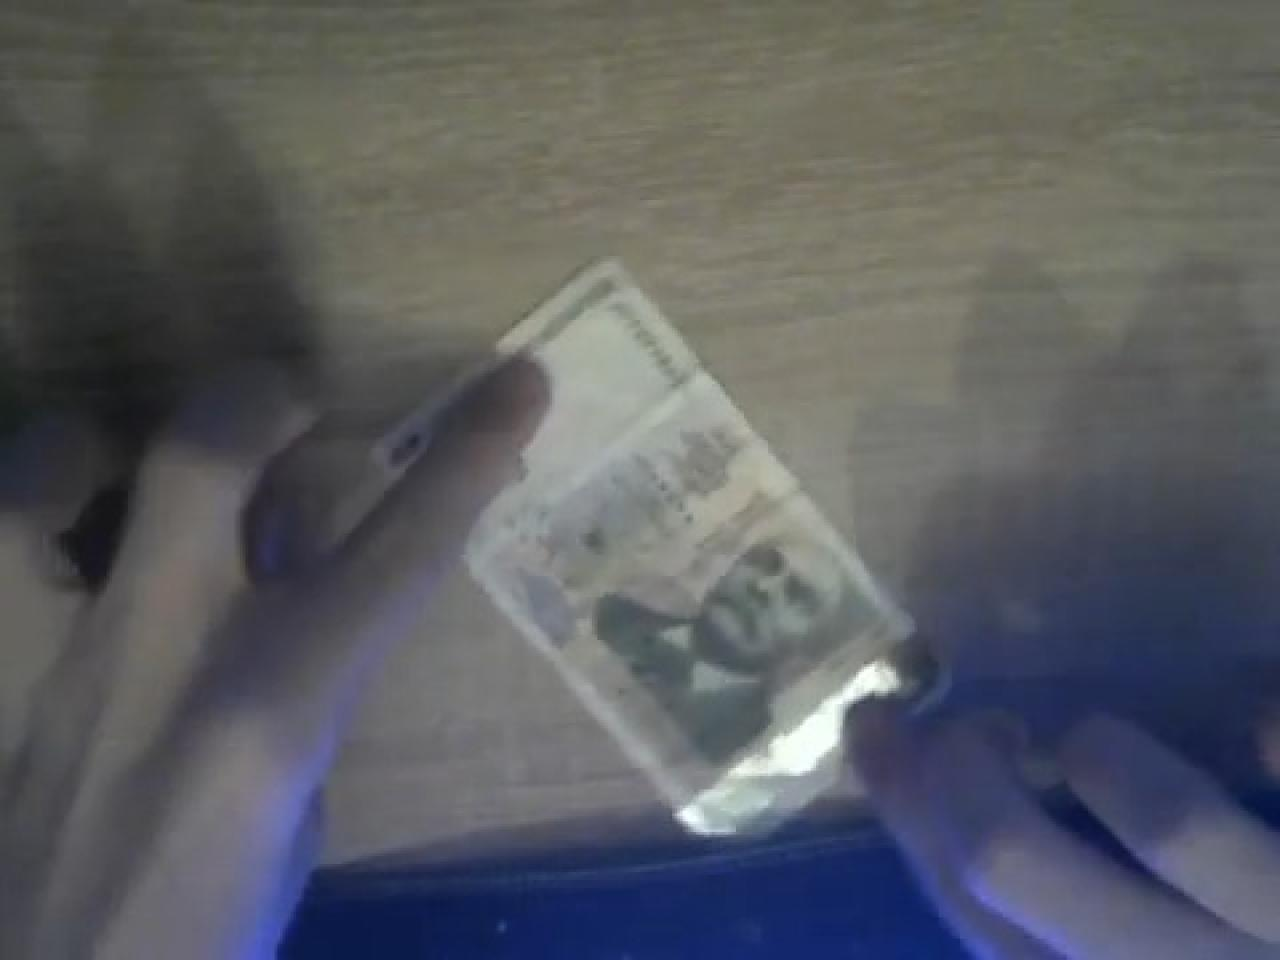10leva: (304, 253, 930, 843)
